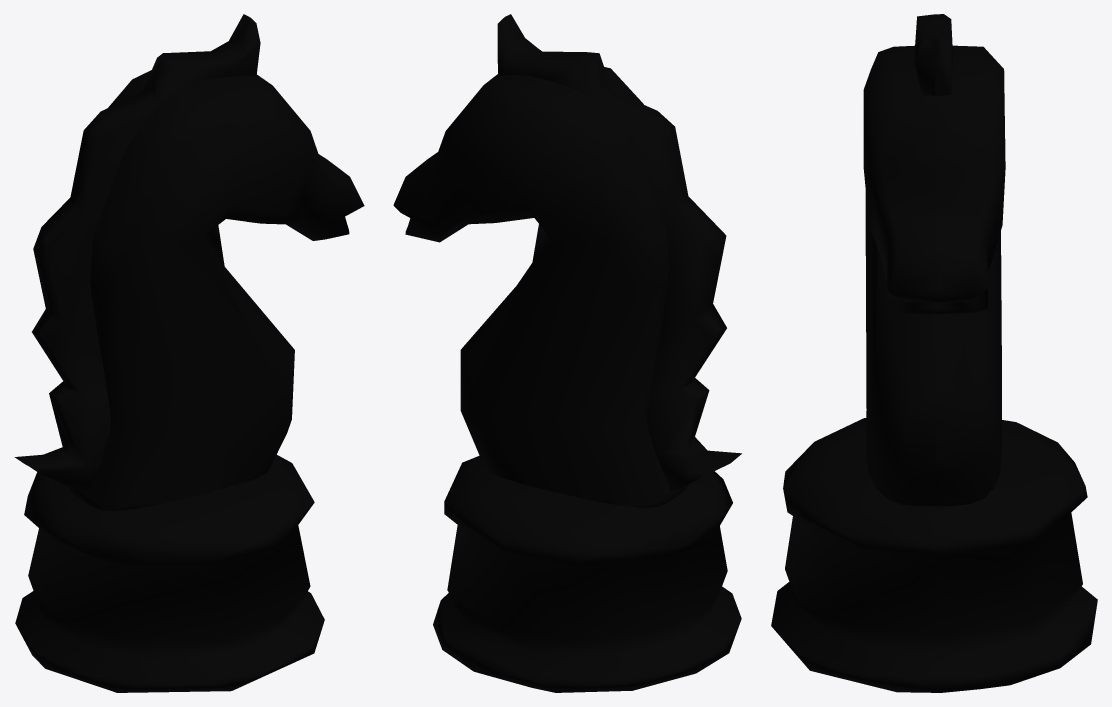
File: ChessKnight.fbx
The picture shows the model from 3 angles, left to right: view 1: azimuth 30°, elevation 25°; view 2: azimuth 150°, elevation 25°; view 3: azimuth 270°, elevation 25°; orthographic projection. The views are drawn at different scales.
Parts seen in each view (by area): view 1: Knight.001; view 2: Knight.001; view 3: Knight.001.
Boxes of the visible parts, x1=… form: Knight.001: x1=14, y1=14, x2=364, y2=692; Knight.001: x1=393, y1=14, x2=741, y2=692; Knight.001: x1=771, y1=14, x2=1097, y2=692.
Bounding box in the file's own units: 126 × 222 × 103.
Materials: 1 (1 with a texture image).
